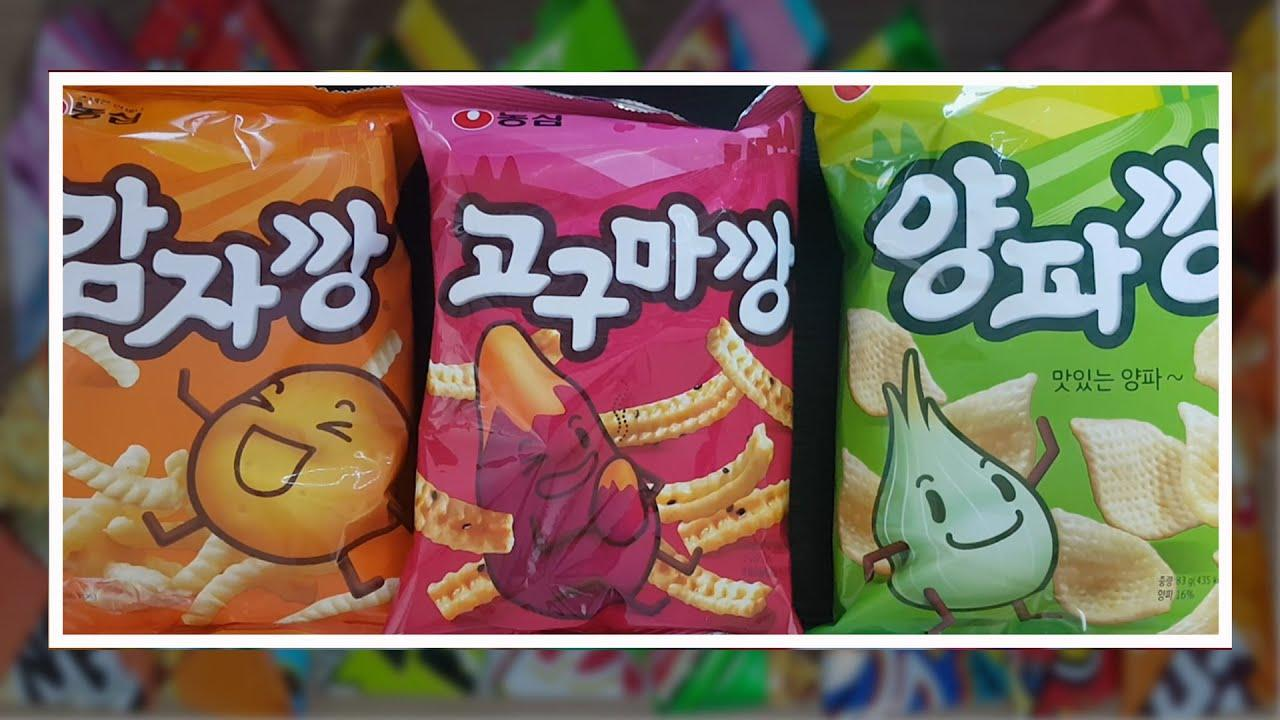snack: (384, 86, 807, 632)
